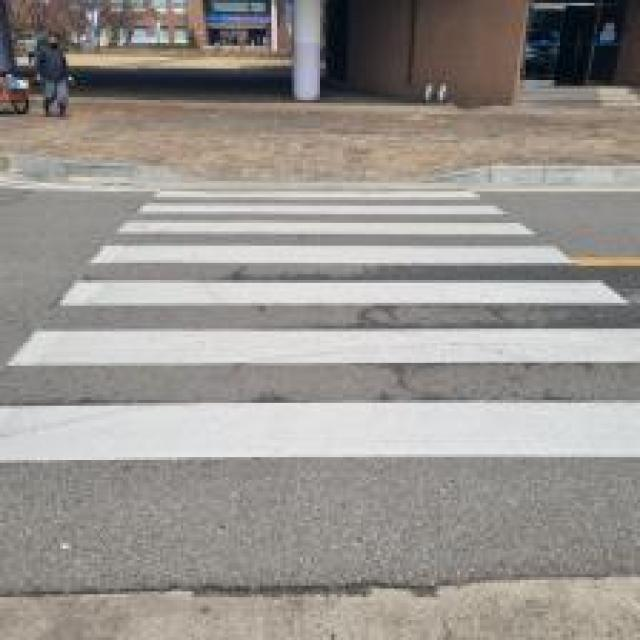walk-crossing: (104, 187, 596, 530)
